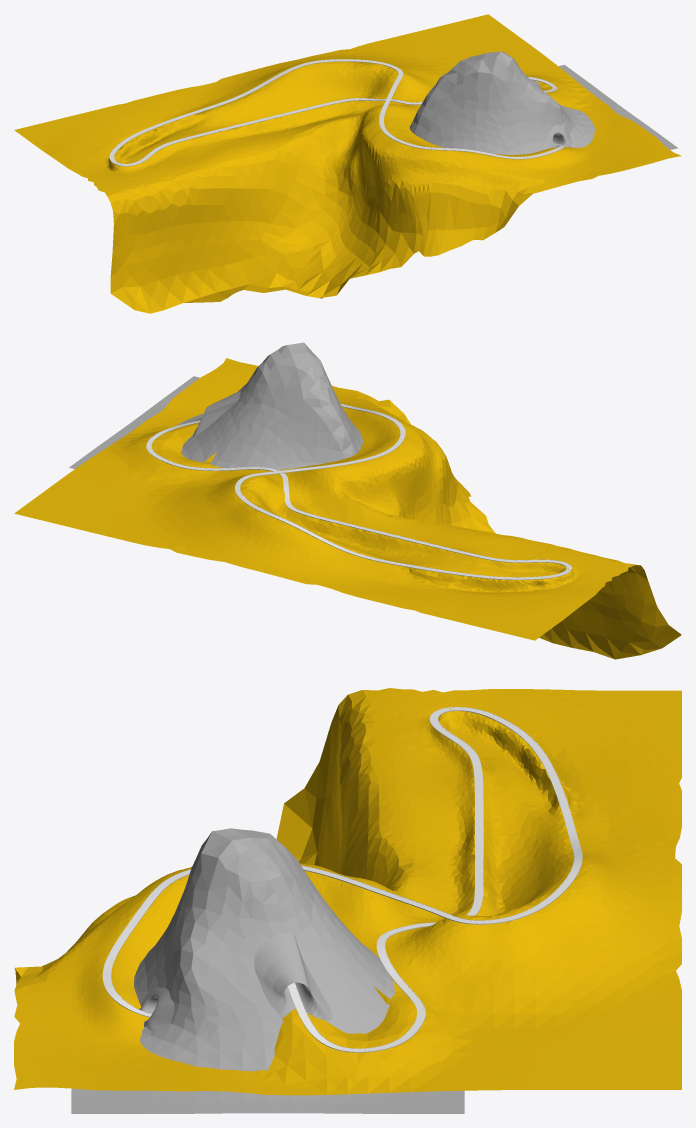
Rendered from rata2.fbx.
The picture shows the model from 3 angles, top to bottom: view 1: azimuth 30°, elevation 25°; view 2: azimuth 150°, elevation 25°; view 3: azimuth 270°, elevation 25°; orthographic projection. The views are drawn at different scales.
Visible parts, largest first — view 1: terrain, montagne, rata :D, tunneli; view 2: terrain, montagne, rata :D, tunneli; view 3: terrain, montagne, rata :D, tunneli.
Part boxes in pixels (x1,y1,x2,y2): terrain: (14,14,681,313); montagne: (410,51,677,154); rata :D: (109,59,564,166); tunneli: (530,79,572,147); terrain: (14,358,681,659); montagne: (69,342,362,469); rata :D: (146,403,571,579); tunneli: (193,390,240,436); terrain: (14,688,681,1095); montagne: (71,828,464,1113); rata :D: (102,707,582,1052); tunneli: (139,933,332,1030).
Bounding box in the file's own units: 11089 × 4095 × 7345.
